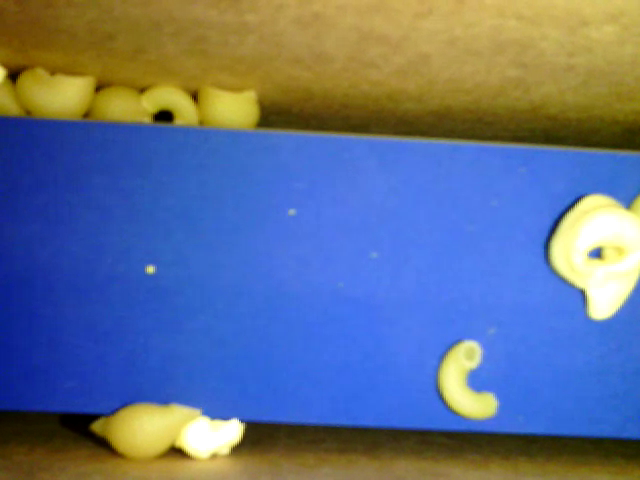elbow: (437, 336, 498, 420), (138, 82, 198, 125)
shell: (89, 399, 205, 461), (14, 66, 96, 121), (197, 83, 258, 131), (89, 83, 150, 123)
tortellini: (546, 193, 639, 320)
